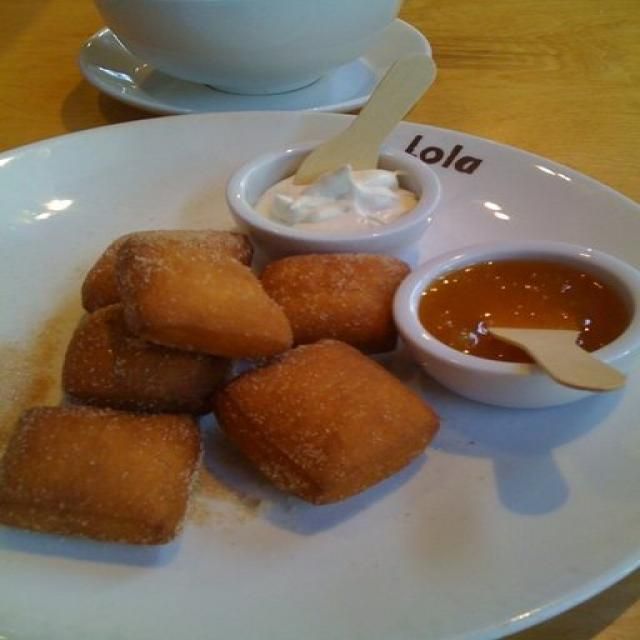Donuts: (8, 224, 452, 575)
